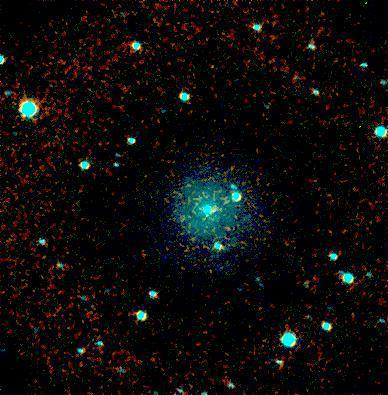star: (196, 50, 226, 80)
